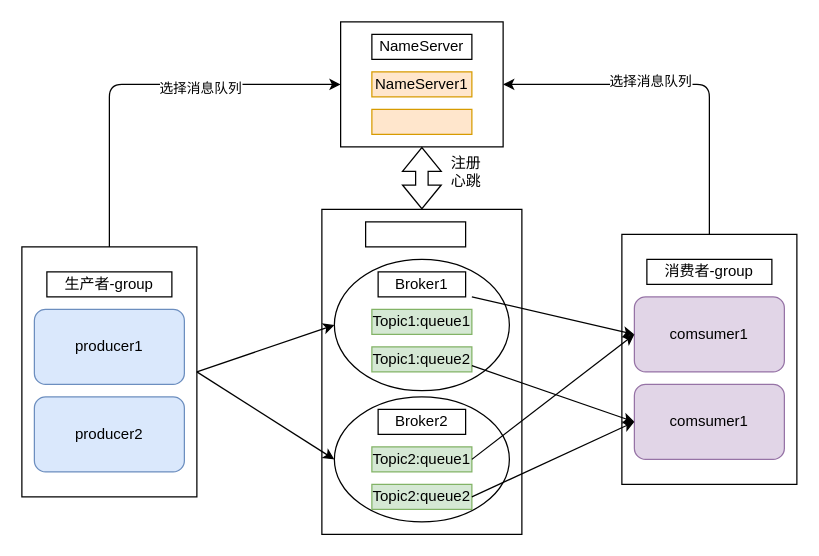
Image size: 819x556. Some labels were removed from this diagram. The centre of each missing label's shape, as x and y in pixels:
Broker: the point at 415,234
NameServer2: the point at 421,121
